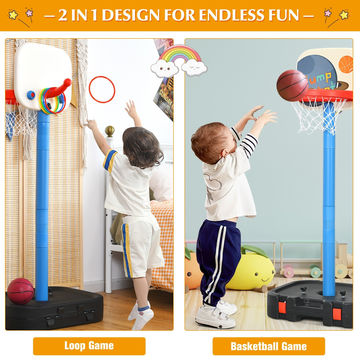ball: (274, 69, 310, 105), (4, 276, 37, 306)
net: (290, 86, 352, 136), (4, 88, 39, 139)
